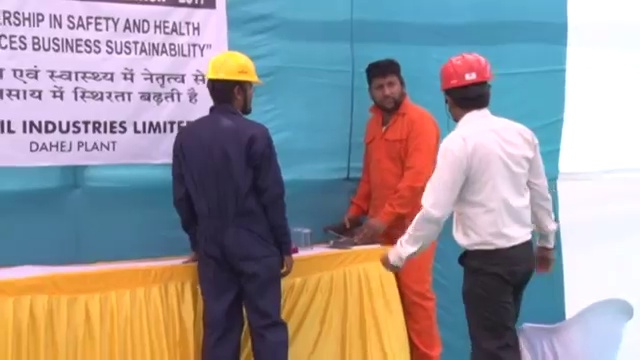helmet: (437, 50, 495, 91), (207, 50, 266, 86)
helmet_off: (365, 55, 407, 112)
helmet_on: (437, 49, 496, 120), (207, 50, 266, 115)
person: (381, 47, 560, 360), (172, 49, 295, 360), (342, 54, 445, 360)
